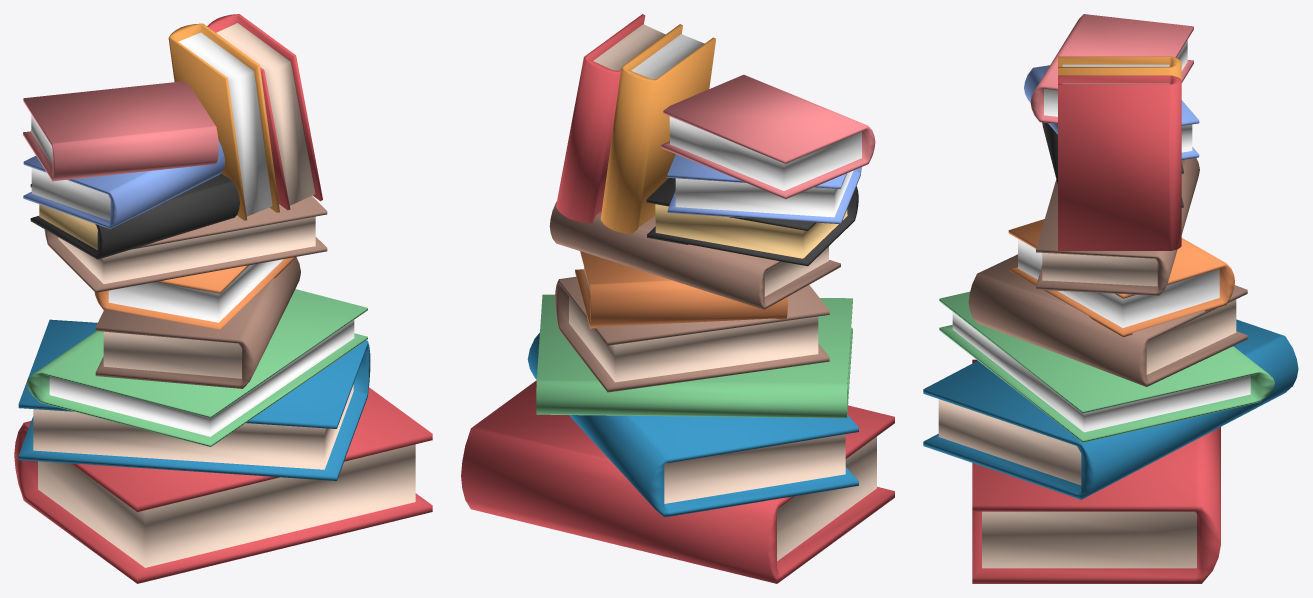
The model's file is BookPile.fbx.
3 renders of one model, left to right at view 1: azimuth 30°, elevation 25°; view 2: azimuth 150°, elevation 25°; view 3: azimuth 270°, elevation 25°, orthographic. The views are drawn at different scales.
Visible parts, largest first — view 1: Book, Book.001, Book.002, Book.010, Book.003, Book.005, Book.007, Book.006, Book.009, Book.008, Book.004; view 2: Book, Book.001, Book.002, Book.010, Book.003, Book.007, Book.005, Book.006, Book.004, Book.008, Book.009; view 3: Book, Book.006, Book.001, Book.002, Book.003, Book.004, Book.005, Book.010, Book.007, Book.009, Book.008.
Part boxes in pixels (left/top/right/bottom): Book: left=14, top=387, right=432, bottom=583; Book.001: left=18, top=319, right=370, bottom=480; Book.002: left=26, top=289, right=367, bottom=446; Book.010: left=23, top=81, right=218, bottom=181; Book.003: left=95, top=257, right=300, bottom=388; Book.005: left=44, top=196, right=327, bottom=292; Book.007: left=168, top=23, right=279, bottom=220; Book.006: left=207, top=14, right=322, bottom=210; Book.009: left=23, top=140, right=224, bottom=229; Book.008: left=30, top=173, right=239, bottom=259; Book.004: left=94, top=257, right=296, bottom=329; Book: left=461, top=380, right=894, bottom=583; Book.001: left=527, top=332, right=858, bottom=517; Book.002: left=536, top=294, right=852, bottom=418; Book.010: left=661, top=74, right=875, bottom=198; Book.003: left=554, top=276, right=829, bottom=392; Book.007: left=600, top=24, right=715, bottom=233; Book.005: left=549, top=201, right=840, bottom=309; Book.006: left=556, top=14, right=665, bottom=223; Book.004: left=575, top=251, right=787, bottom=328; Book.008: left=646, top=178, right=858, bottom=266; Book.009: left=667, top=154, right=861, bottom=224; Book: left=972, top=359, right=1220, bottom=583; Book.006: left=1058, top=75, right=1181, bottom=250; Book.001: left=923, top=319, right=1298, bottom=499; Book.002: left=939, top=291, right=1274, bottom=442; Book.003: left=968, top=254, right=1247, bottom=386; Book.004: left=1008, top=219, right=1234, bottom=337; Book.005: left=1036, top=158, right=1199, bottom=295; Book.010: left=1030, top=14, right=1193, bottom=124; Book.007: left=1058, top=56, right=1181, bottom=79; Book.009: left=1024, top=65, right=1199, bottom=159; Book.008: left=1042, top=122, right=1183, bottom=207.
Size of the model in its own units: 733 by 932 by 700.
